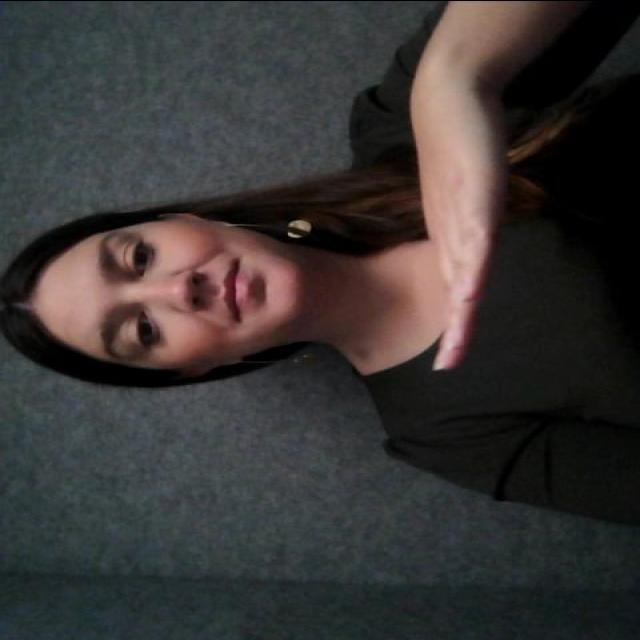Paper: (391, 87, 548, 376)
